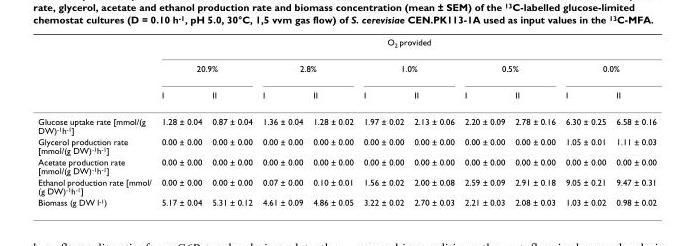table: (37, 36, 655, 206)
table column: (37, 36, 155, 206), (155, 36, 206, 206), (256, 36, 307, 206), (357, 36, 408, 206), (458, 36, 509, 206), (559, 36, 610, 206), (206, 36, 256, 206), (307, 36, 357, 206), (408, 36, 458, 206), (509, 36, 559, 206), (610, 36, 655, 206)
table column header: (37, 36, 655, 107)
table row: (37, 107, 655, 135), (37, 55, 655, 81), (37, 81, 655, 107), (37, 175, 655, 196), (37, 135, 655, 155), (37, 155, 655, 175), (37, 36, 655, 55), (37, 196, 655, 206)
table spanning cell: (155, 36, 655, 55), (155, 55, 256, 81), (256, 55, 357, 81), (357, 55, 458, 81), (458, 55, 559, 81), (559, 55, 655, 81)
